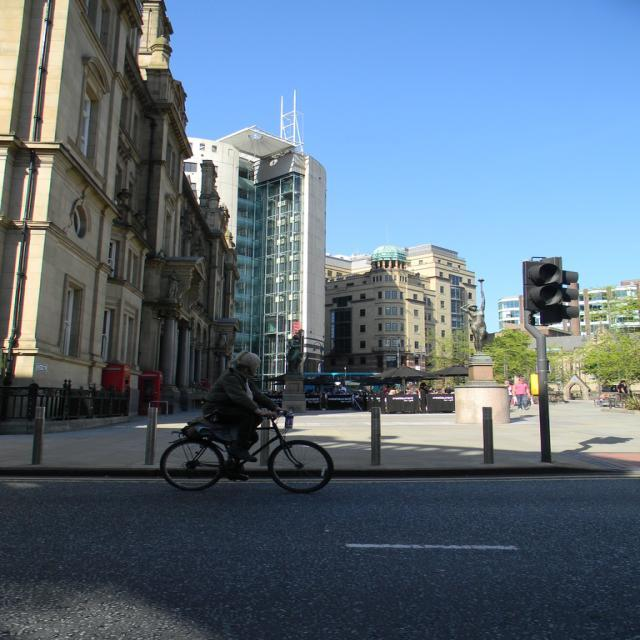traffic light: (523, 262, 563, 310)
